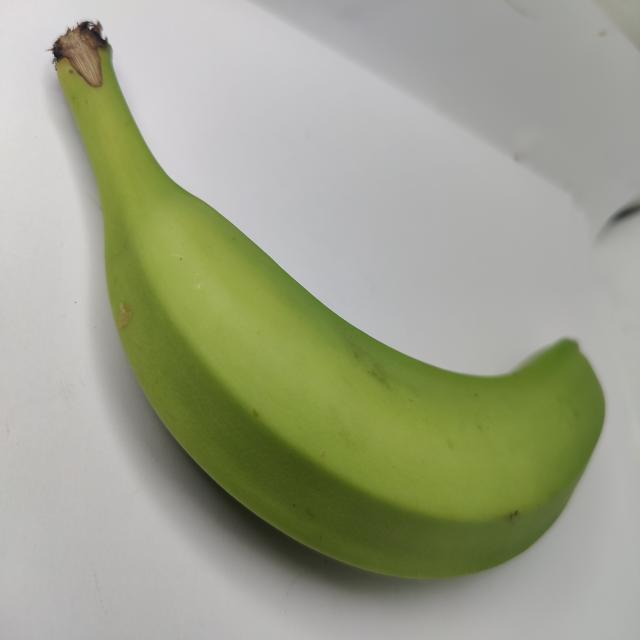raw: (48, 20, 609, 600)
